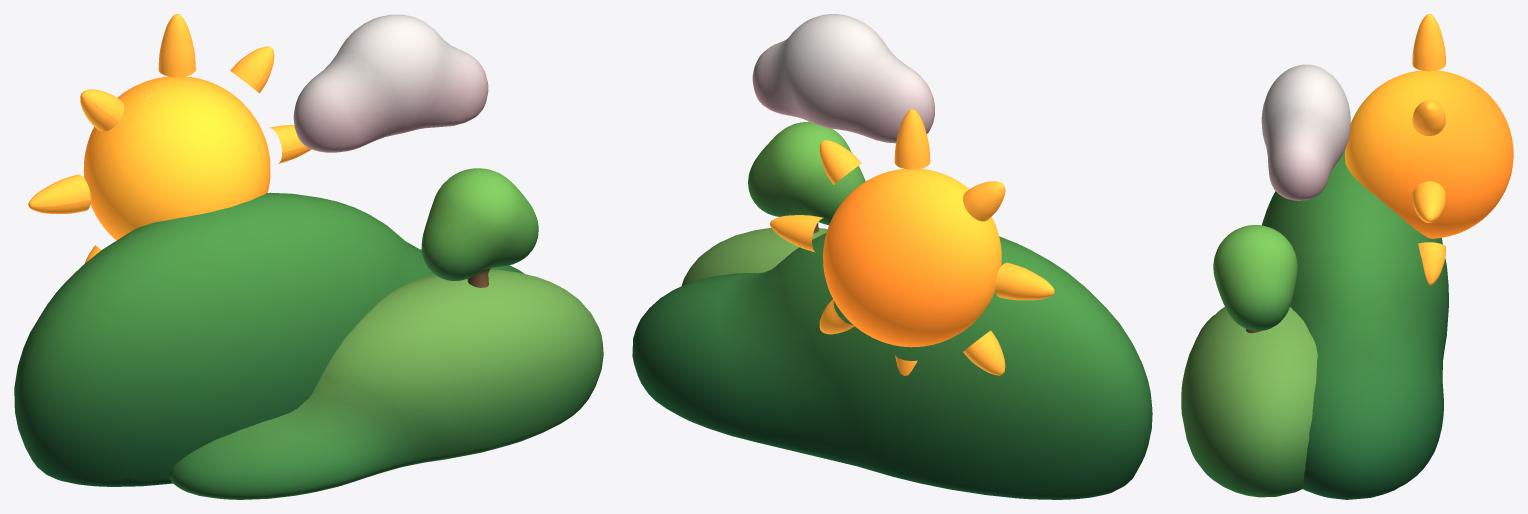
File: morning.glb
The picture shows the model from 3 angles, left to right: view 1: azimuth 30°, elevation 25°; view 2: azimuth 150°, elevation 25°; view 3: azimuth 270°, elevation 25°; orthographic projection. The views are drawn at different scales.
Parts seen in each view (by area): view 1: hill-back+hill-front, sun-core, cloud, tree, sun-ray; view 2: hill-back+hill-front, sun-core, cloud, sun-ray, tree; view 3: hill-back+hill-front, sun-core, cloud, tree, sun-ray.
Part boxes in pixels (bbox=[...]): hill-back+hill-front: bbox=[14, 192, 603, 499]; sun-core: bbox=[83, 76, 270, 240]; cloud: bbox=[293, 14, 488, 152]; tree: bbox=[421, 168, 538, 287]; sun-ray: bbox=[28, 14, 311, 263]; hill-back+hill-front: bbox=[632, 228, 1152, 499]; sun-core: bbox=[823, 168, 1001, 347]; cloud: bbox=[752, 14, 934, 143]; sun-ray: bbox=[770, 109, 1054, 375]; tree: bbox=[748, 121, 865, 233]; hill-back+hill-front: bbox=[1181, 150, 1448, 499]; sun-core: bbox=[1345, 70, 1513, 238]; cloud: bbox=[1261, 64, 1350, 200]; tree: bbox=[1213, 225, 1297, 333]; sun-ray: bbox=[1412, 14, 1445, 285].
Bounding box in the file's own units: 2.22 × 1.6 × 1.34.
